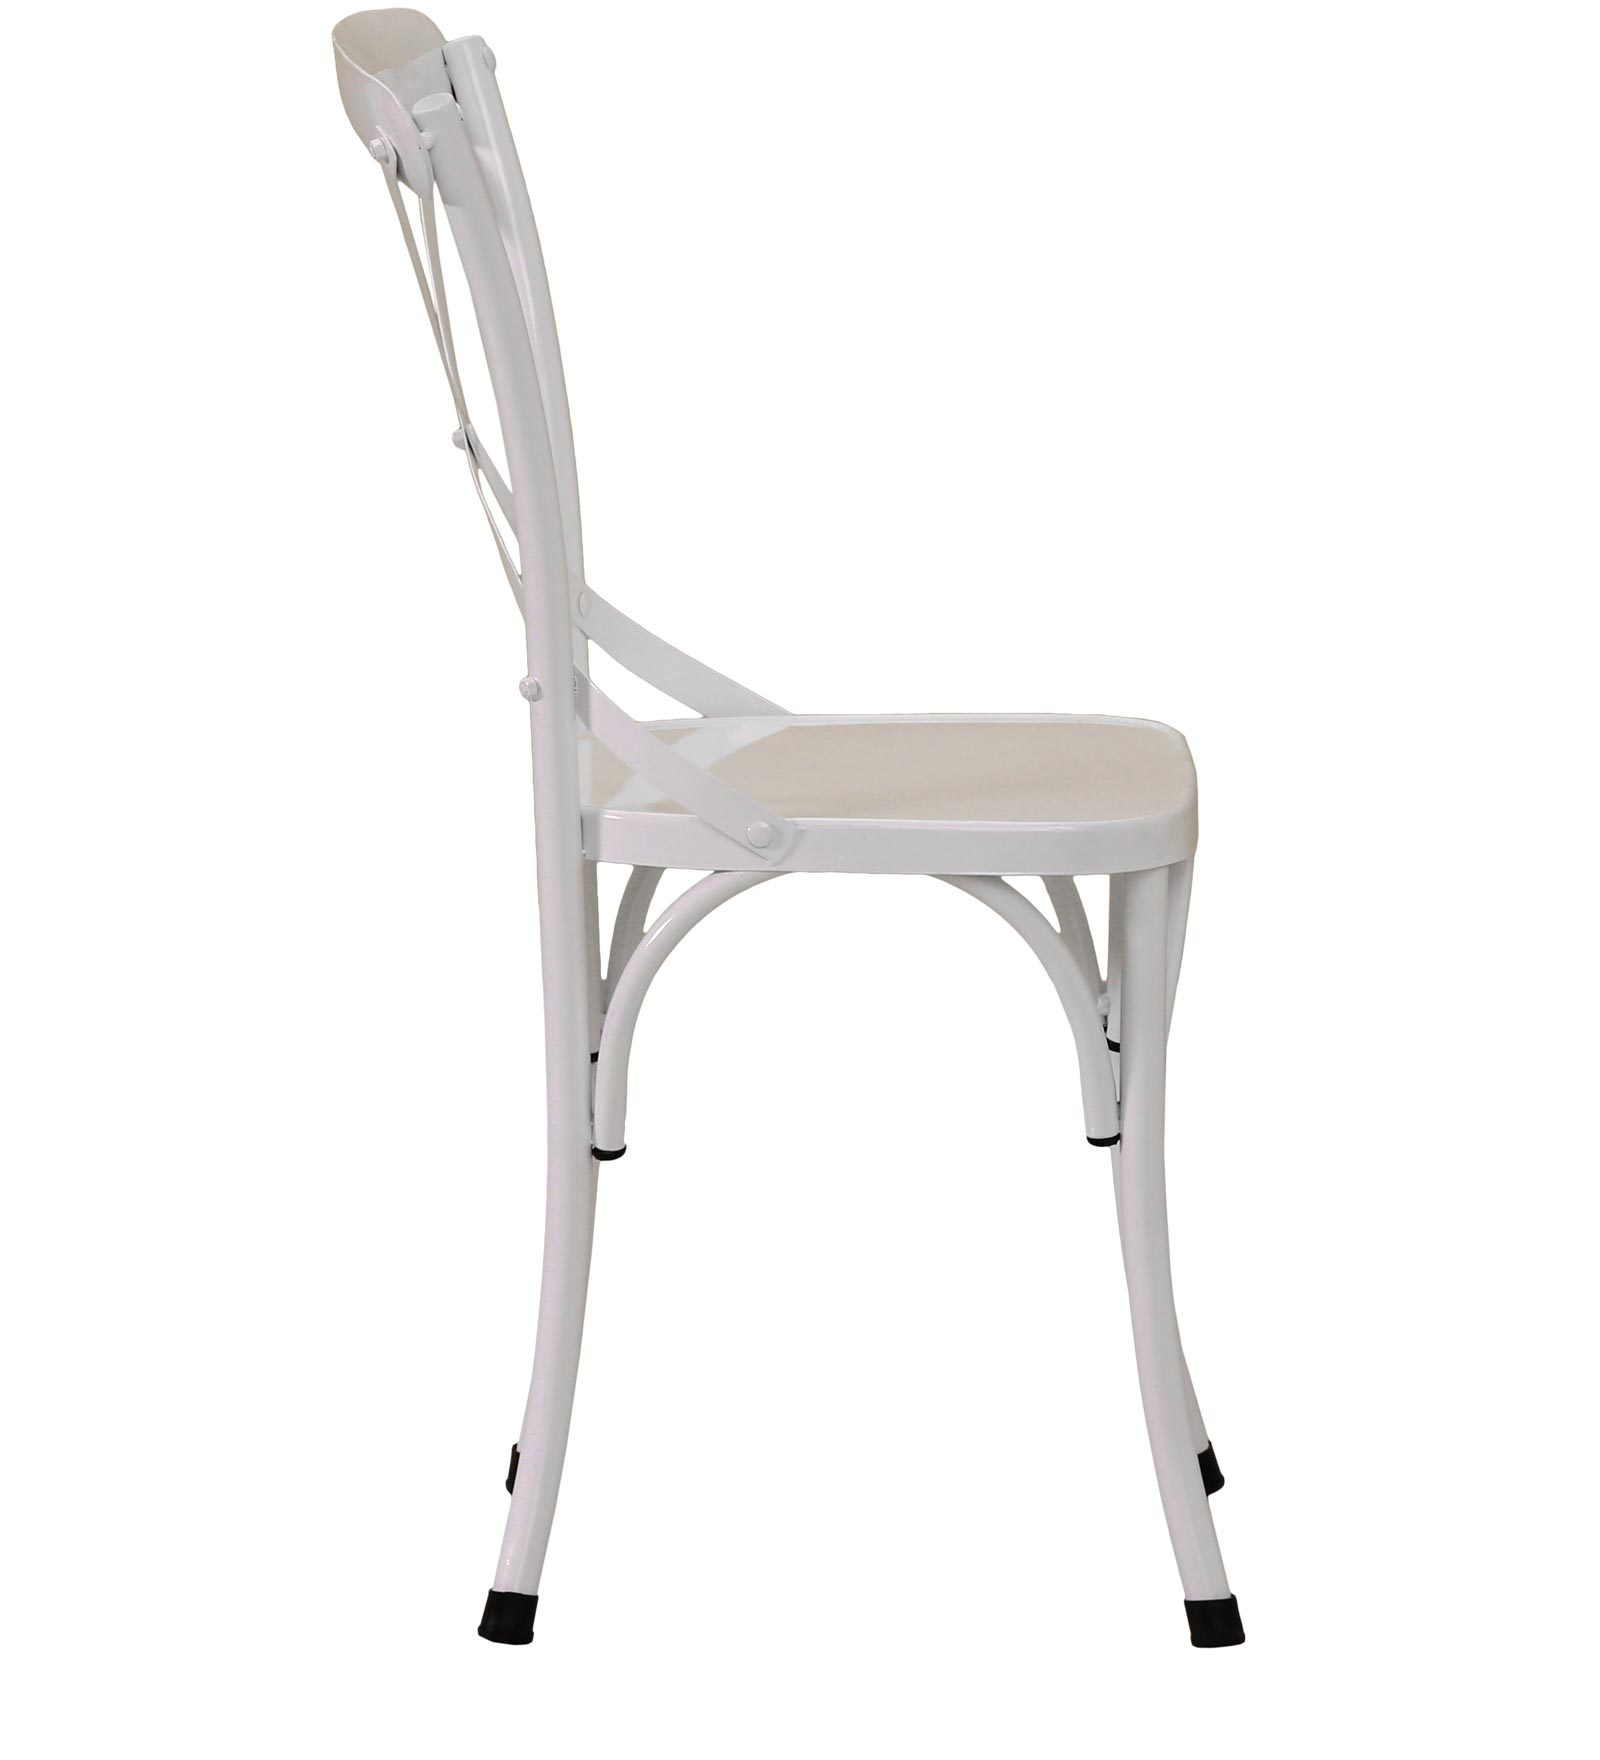Fabian Metal Chair in White Color by Bohemiana: (303, 9, 1336, 1670)
